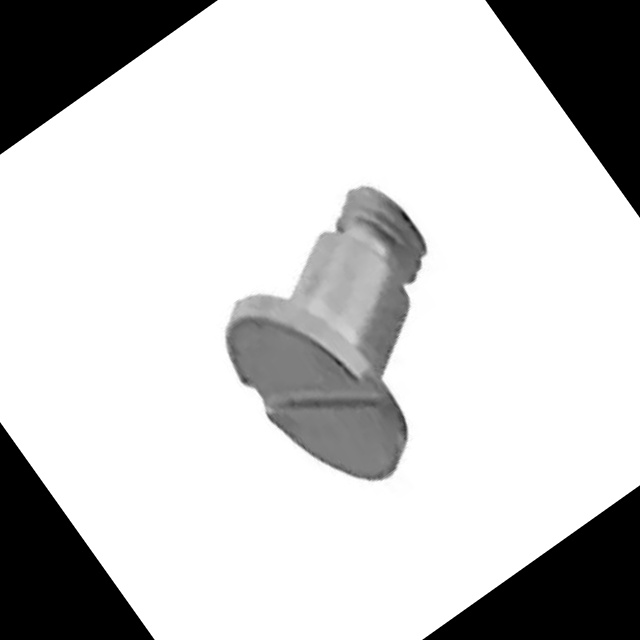duz: (200, 259, 429, 517)
